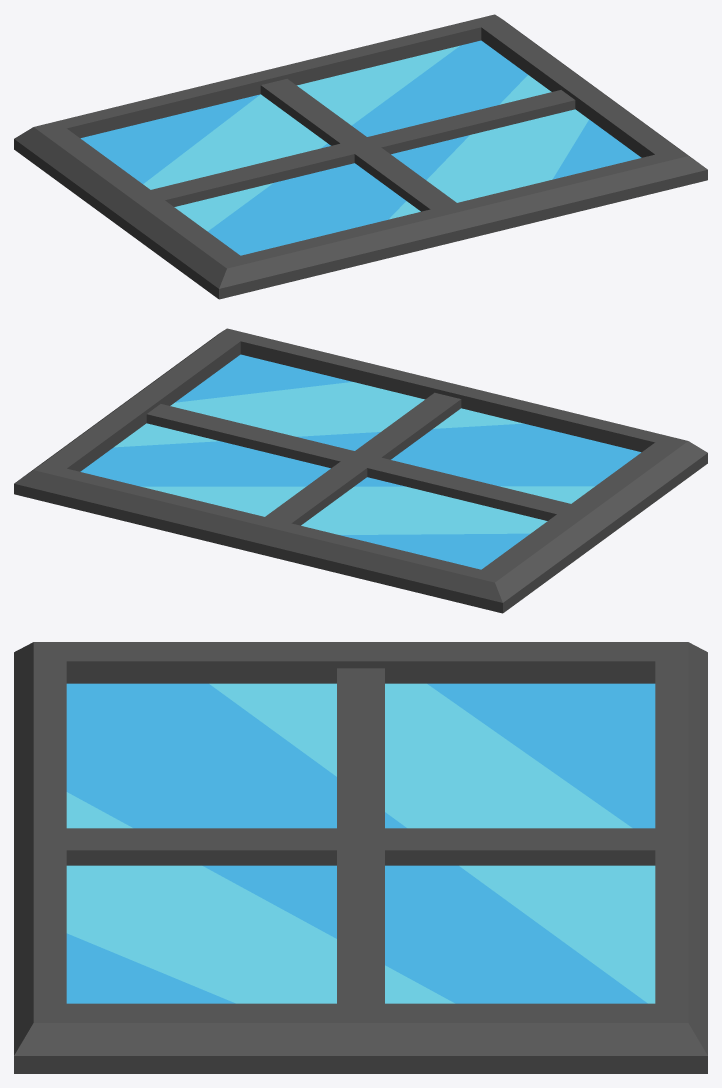
The model's file is Prop_RoofWindow_03.fbx.
3 views of the same model, one above another, from view 1: azimuth 30°, elevation 25°; view 2: azimuth 150°, elevation 25°; view 3: azimuth 270°, elevation 25° (orthographic). The views are drawn at different scales.
Parts seen in each view (by area): view 1: Prop_RoofWindow_03; view 2: Prop_RoofWindow_03; view 3: Prop_RoofWindow_03.
Part boxes in pixels (x1,y1,x2,y2): Prop_RoofWindow_03: (14,14,707,299); Prop_RoofWindow_03: (14,328,707,613); Prop_RoofWindow_03: (14,642,707,1073).
Size of the model in its own units: 138 by 6.28 by 100.
